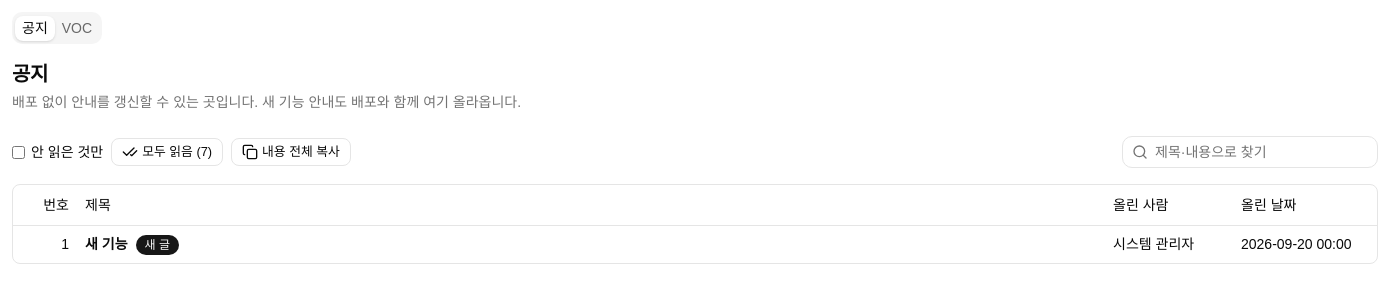
공지 게시판 › 안 읽은 글이 있으면 「모두 읽음」 이 서고, 누르면 목록과 수를 다시 읽는다
Click the button "모두 읽음 (7)": x=167, y=152 [111,138,223,166]
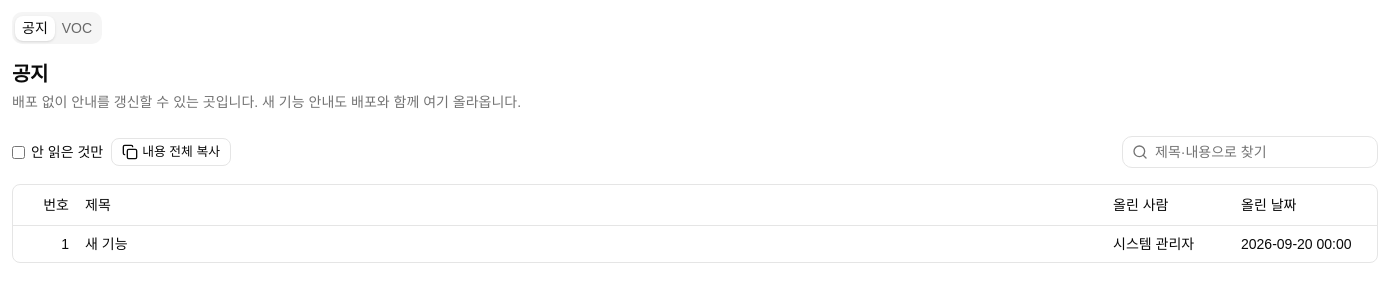
expect the button "모두 읽음" is gone: met
expect the icon "새 글" is gone: met
